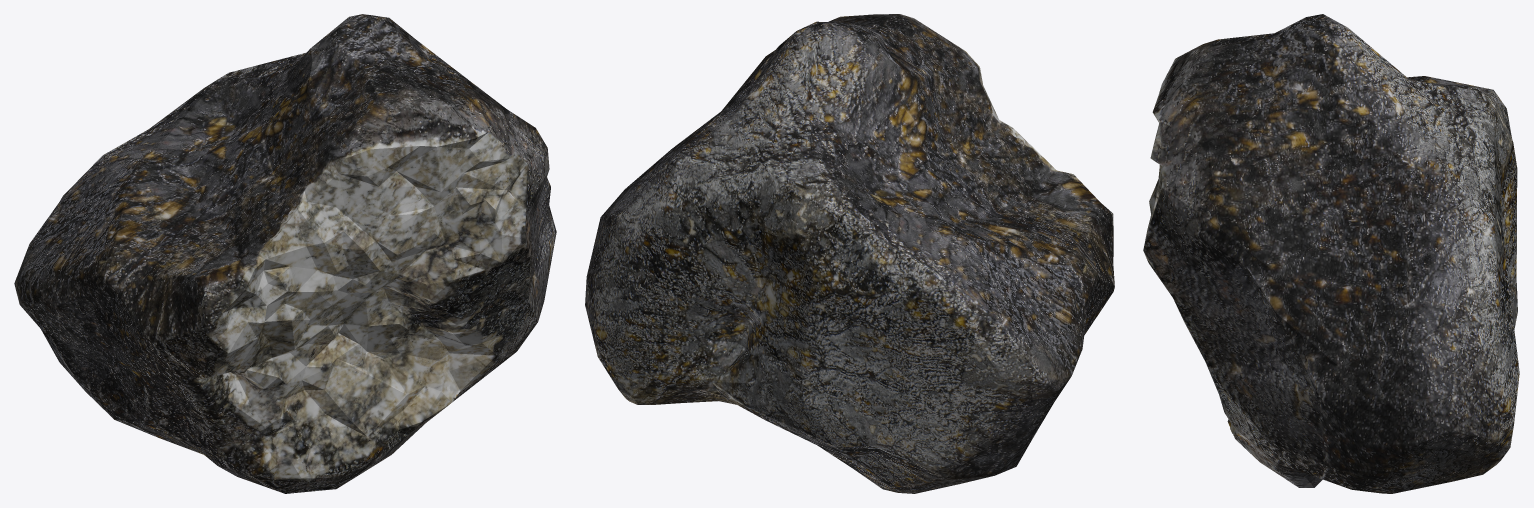
The model's file is GRO17049-0.fbx.
3 views of the same model, side by side, from view 1: azimuth 30°, elevation 25°; view 2: azimuth 150°, elevation 25°; view 3: azimuth 270°, elevation 25° (orthographic). The views are drawn at different scales.
Visible parts, largest first — view 1: GRO17049-0; view 2: GRO17049-0; view 3: GRO17049-0.
Boxes of the visible parts, x1,y1,x2,y2 form: GRO17049-0: (14,14,556,493); GRO17049-0: (585,14,1114,493); GRO17049-0: (1143,14,1519,493).
Bounding box in the file's own units: 65.13 × 56.57 × 40.32.
